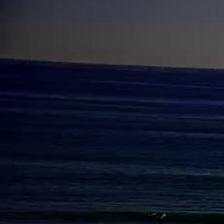surfer: (157, 213, 163, 219), (146, 212, 153, 217)
